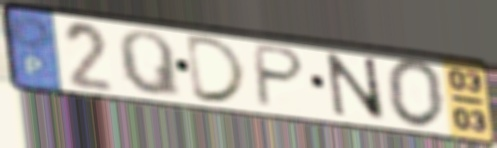2: (61, 19, 119, 95)
D: (184, 32, 251, 106)
N: (322, 49, 390, 123)
O: (383, 56, 447, 131)
P: (253, 41, 308, 110)
Q: (115, 28, 185, 101)
